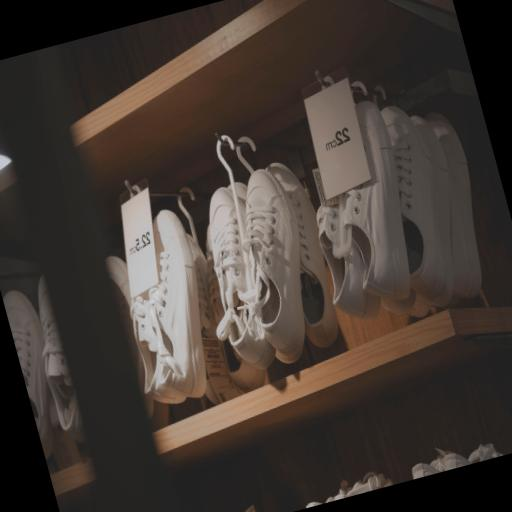shoe: (130, 211, 205, 403), (382, 107, 452, 306), (342, 102, 410, 299), (266, 163, 337, 347), (242, 170, 304, 363), (209, 188, 275, 369), (425, 113, 481, 297), (3, 291, 52, 459), (37, 276, 85, 443), (105, 256, 153, 418), (316, 206, 380, 319), (187, 235, 225, 364), (205, 227, 223, 323), (468, 444, 502, 463)
